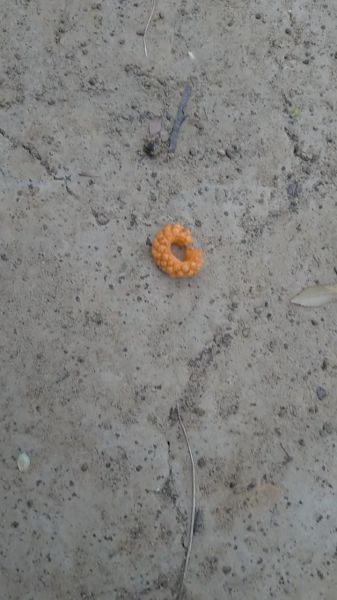eggs: (150, 211, 204, 283)
